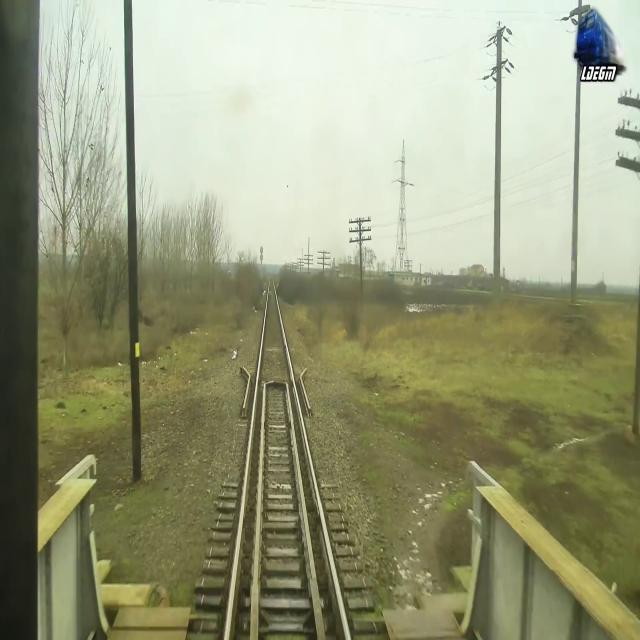rail-track: (230, 277, 345, 639)
